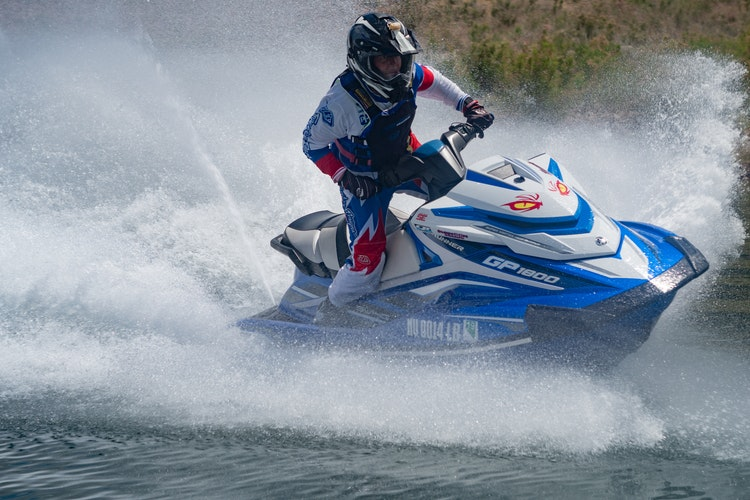helmet: (344, 8, 424, 90)
